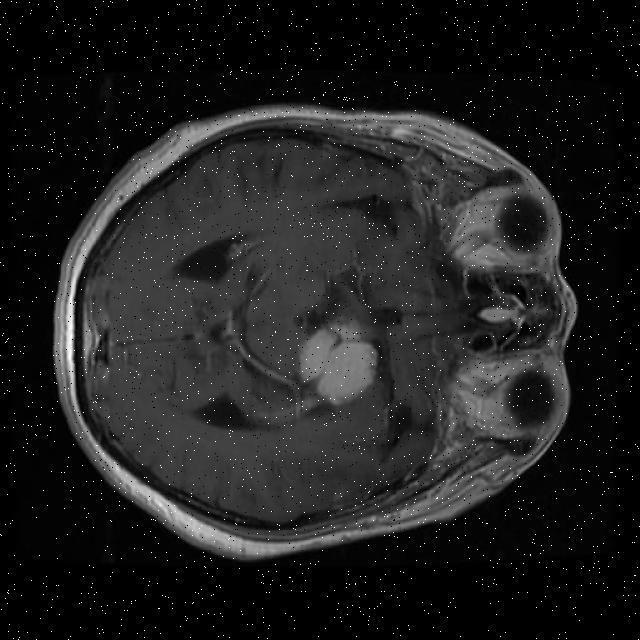Meningioma: (300, 321, 377, 405)
